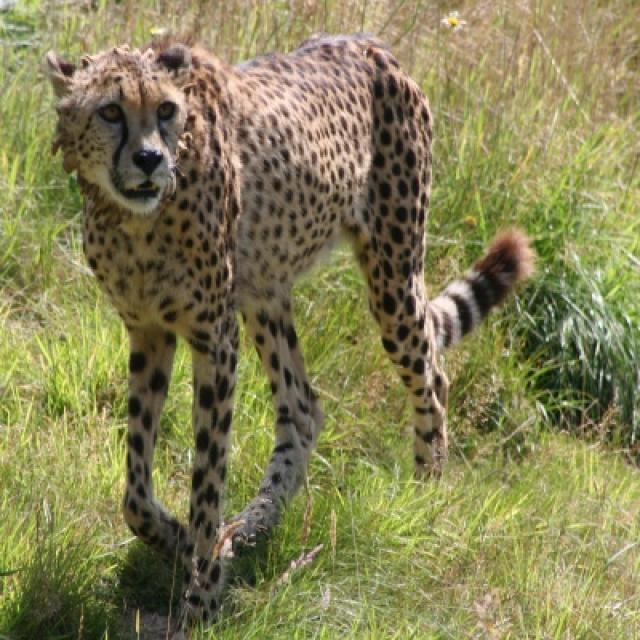Cheetah: (52, 34, 528, 591)
